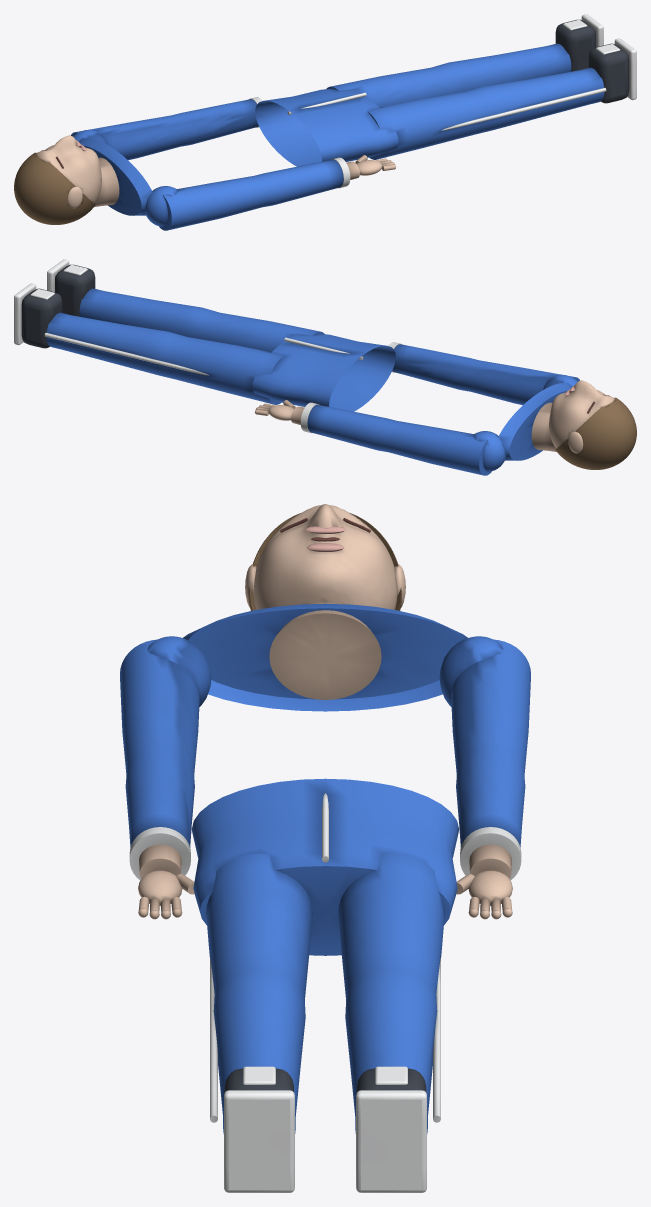
Rendered from anne_body.glb.
3 views of the same model, one above another, from view 1: azimuth 30°, elevation 25°; view 2: azimuth 150°, elevation 25°; view 3: azimuth 270°, elevation 25° (orthographic). The views are drawn at different scales.
Parts seen in each view (by area): view 1: leg_1, torso_lower, leg_-1, arm_1, arm_-1, hair, head, torso_upper, shoe_1, shoe_-1, shoulder_1, neck (+4 smaller); view 2: leg_-1, torso_lower, leg_1, arm_-1, arm_1, hair, head, torso_upper, shoe_-1, shoe_1, shoulder_-1, neck (+4 smaller); view 3: torso_lower, leg_-1, leg_1, torso_upper, arm_-1, arm_1, head, neck, sole_-1, sole_1, shoulder_-1, shoulder_1 (+8 smaller).
Part boxes in pixels (box(x1,y1,x2,y2)): leg_1: box(367, 67, 604, 159); torso_lower: box(255, 89, 398, 166); leg_-1: box(326, 43, 571, 107); arm_1: box(159, 159, 343, 230); arm_-1: box(71, 99, 258, 160); hair: box(14, 152, 95, 224); head: box(36, 135, 101, 203); torso_upper: box(79, 138, 152, 215); shoe_1: box(588, 43, 629, 103); shoe_-1: box(555, 19, 595, 71); shoulder_1: box(145, 186, 177, 226); neck: box(94, 157, 119, 206); leg_-1: box(46, 312, 283, 404); torso_lower: box(252, 334, 395, 411); leg_1: box(79, 288, 324, 352); arm_-1: box(307, 404, 491, 475); arm_1: box(392, 344, 579, 405); hair: box(555, 397, 636, 469); head: box(549, 380, 614, 448); torso_upper: box(498, 383, 571, 460); shoe_-1: box(21, 288, 62, 348); shoe_1: box(55, 264, 95, 316); shoulder_-1: box(473, 431, 505, 471); neck: box(531, 402, 556, 451); torso_lower: box(191, 778, 459, 955); leg_-1: box(338, 853, 444, 1133); leg_1: box(206, 853, 312, 1133); torso_upper: box(183, 603, 467, 711); arm_-1: box(451, 639, 530, 847); arm_1: box(120, 639, 199, 847); head: box(253, 504, 397, 609); neck: box(269, 602, 381, 699); sole_-1: box(356, 1090, 426, 1192); sole_1: box(224, 1090, 294, 1192); shoulder_-1: box(439, 636, 503, 706); shoulder_1: box(147, 636, 211, 706).
Bounding box in the file's own units: 83.07 × 11.07 × 24.9.
